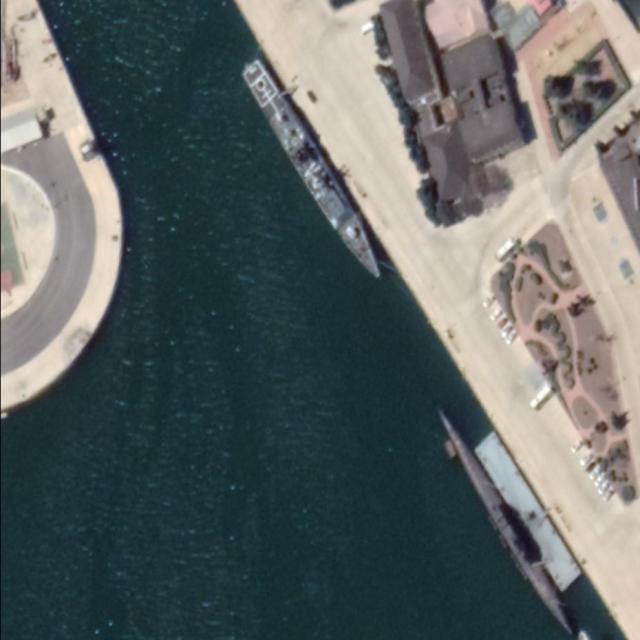Auxiliary Ships: (235, 57, 391, 286)
Submarine: (435, 405, 573, 630)
